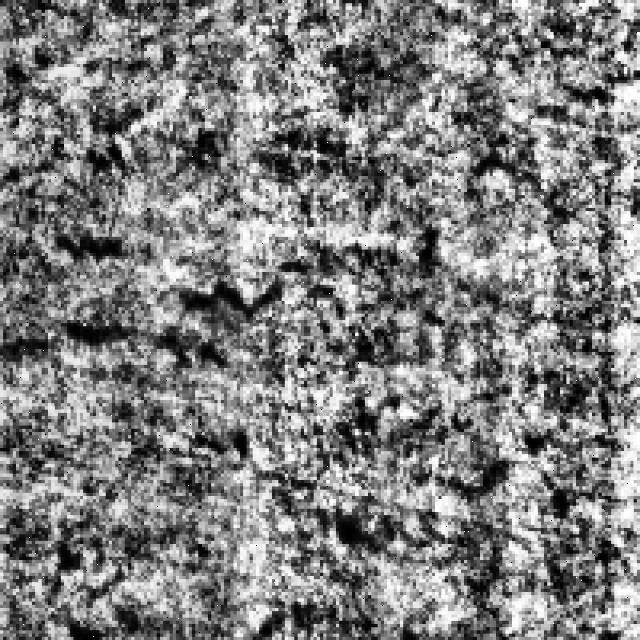Pitted_Surface: (9, 218, 284, 477)
